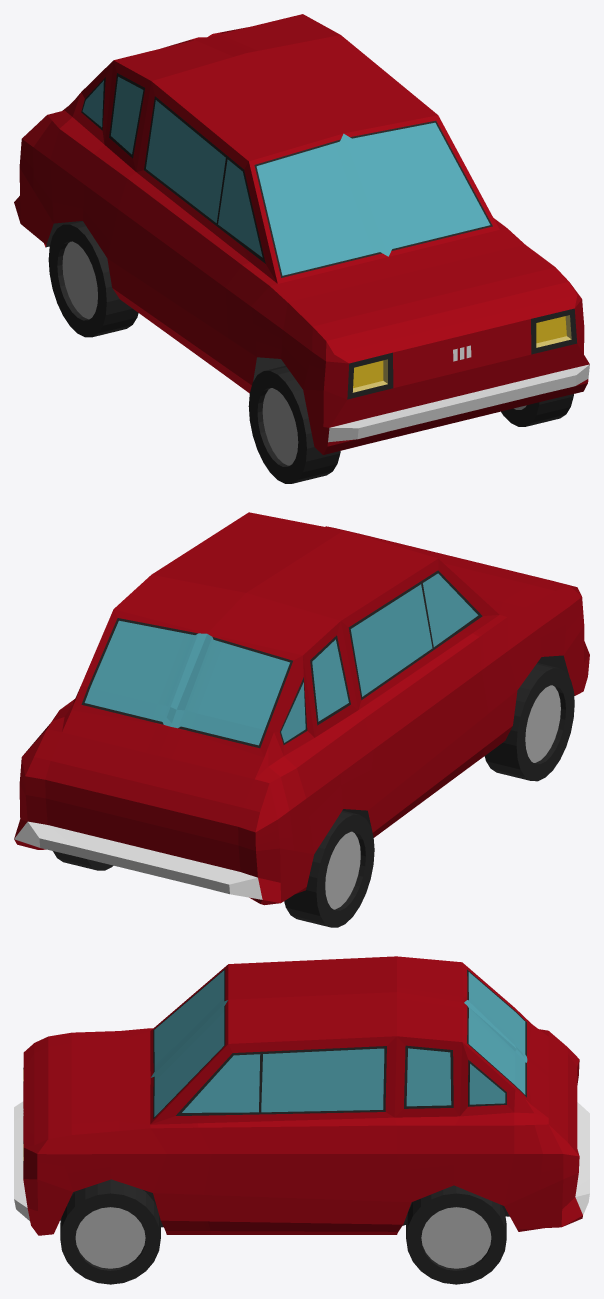
The model's file is LowPolyMaluch_JAM23.fbx.
3 renders of one model, top to bottom at view 1: azimuth 30°, elevation 25°; view 2: azimuth 150°, elevation 25°; view 3: azimuth 270°, elevation 25°, orthographic. The views are drawn at different scales.
Parts seen in each view (by area): view 1: Cube; view 2: Cube; view 3: Cube.
Boxes of the visible parts, x1,y1,x2,y2 form: Cube: (14, 14, 589, 483); Cube: (14, 512, 589, 927); Cube: (14, 956, 589, 1284).
Size of the model in its own units: 1.05 by 1.03 by 2.27.
